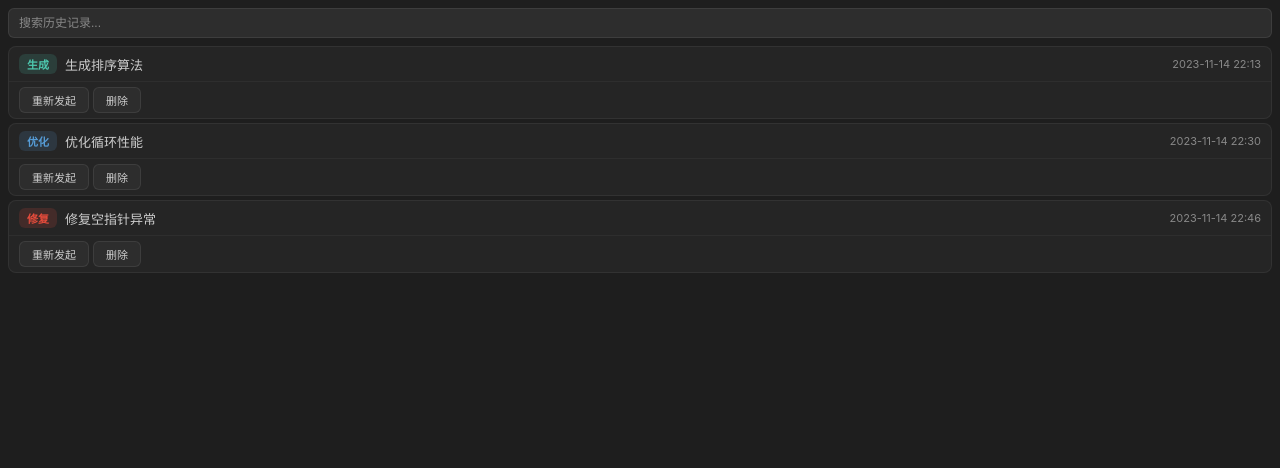
Test: HistoryPanel › Expand/collapse details › should show detail view when clicking a record summary
Click to expand
Click the button with test id "history-item-summary-rec-1".
click(38, 64)  # box [19,54,1261,74]
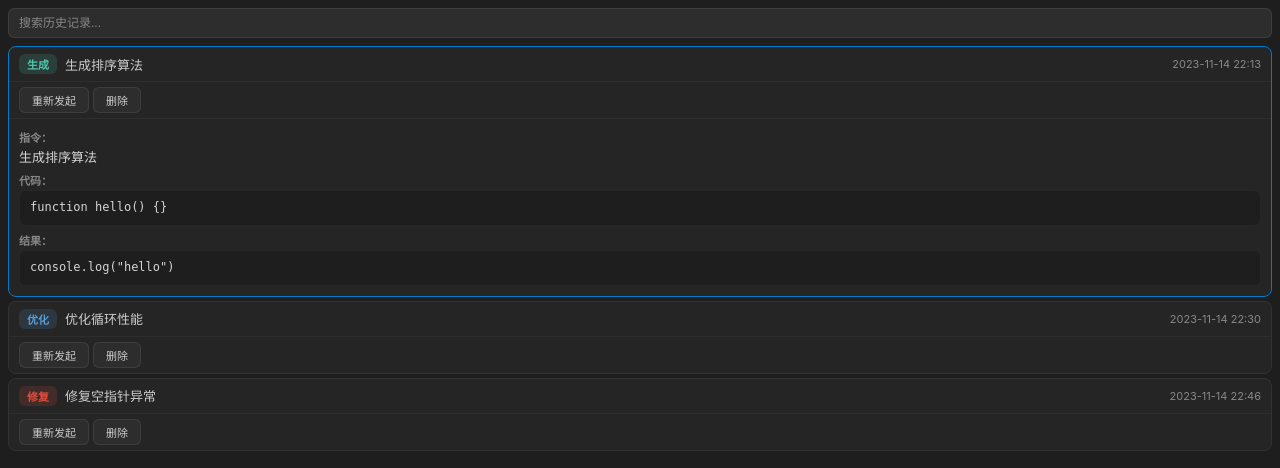
Now the element with test id "history-item-detail-rec-1" is shown, box [9,118,1271,296]
